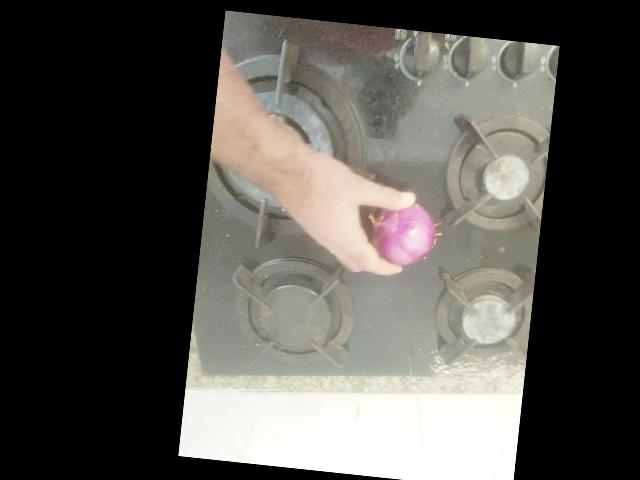onion: (401, 306, 478, 375)
